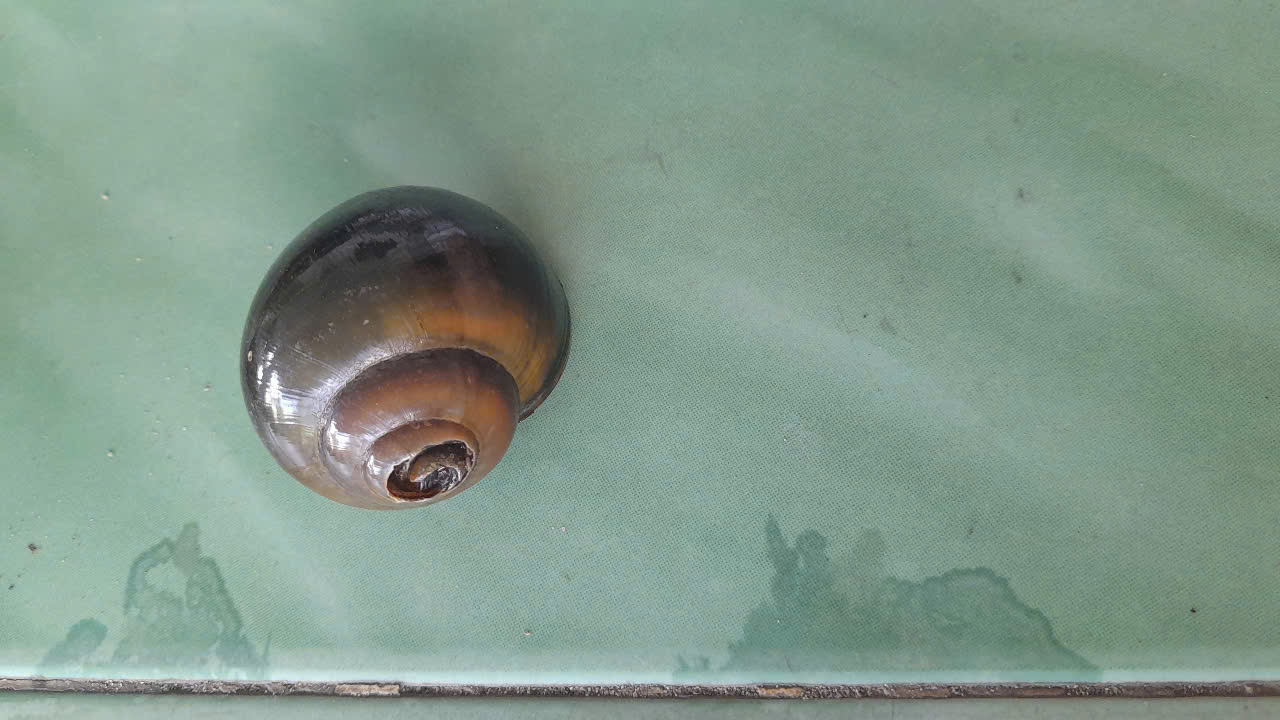oc_buou_vang: (199, 169, 575, 521)
